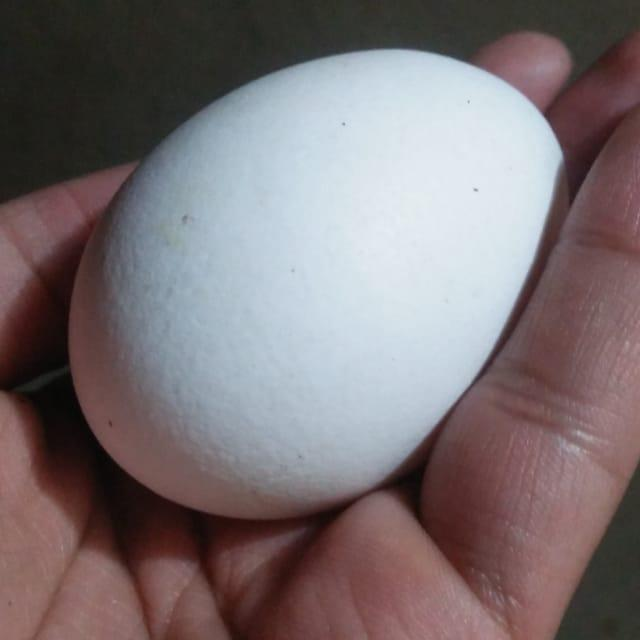egg: (63, 44, 569, 522)
